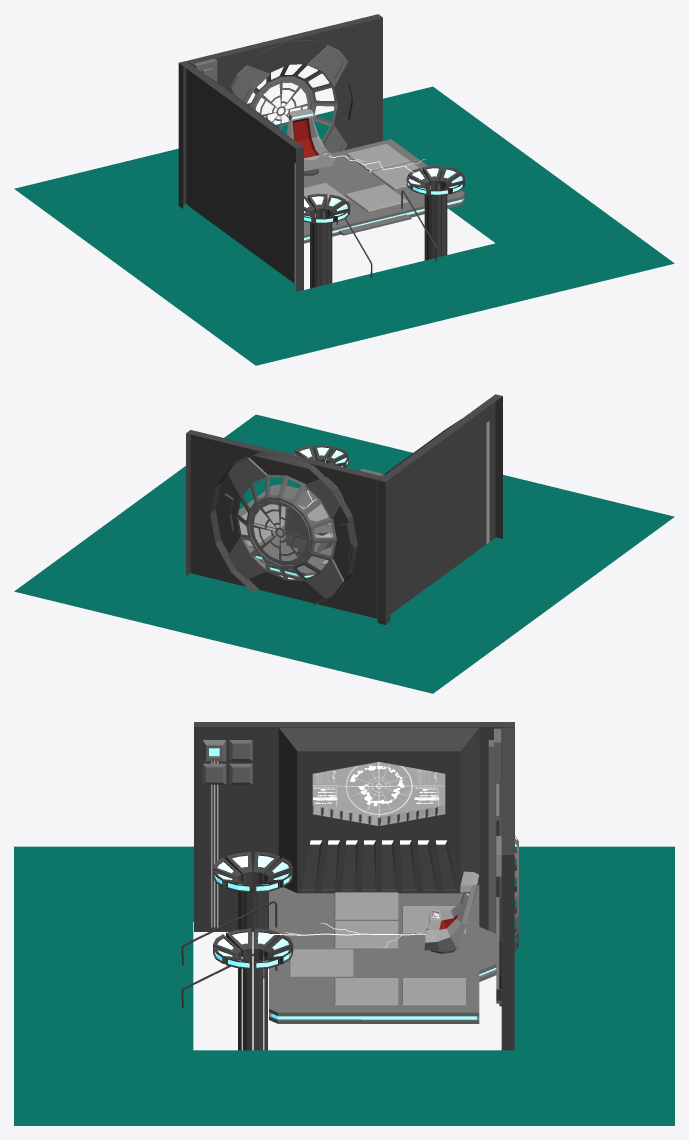
The model's file is imperial.gltf.
3 renders of one model, top to bottom at view 1: azimuth 30°, elevation 25°; view 2: azimuth 150°, elevation 25°; view 3: azimuth 270°, elevation 25°, orthographic. The views are drawn at different scales.
Parts seen in each view (by area): view 1: Cylinder.004; view 2: Cylinder.004; view 3: Cylinder.004.
Boxes of the visible parts, left/top/right/bottom form: Cylinder.004: left=14, top=14, right=674, bottom=365; Cylinder.004: left=14, top=394, right=674, bottom=693; Cylinder.004: left=14, top=722, right=674, bottom=1125.
Size of the model in its own units: 56.56 by 24.78 by 56.56.
